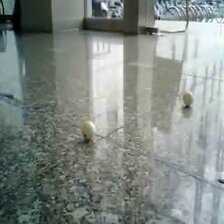w: (81, 121, 96, 138), (182, 91, 195, 106)
